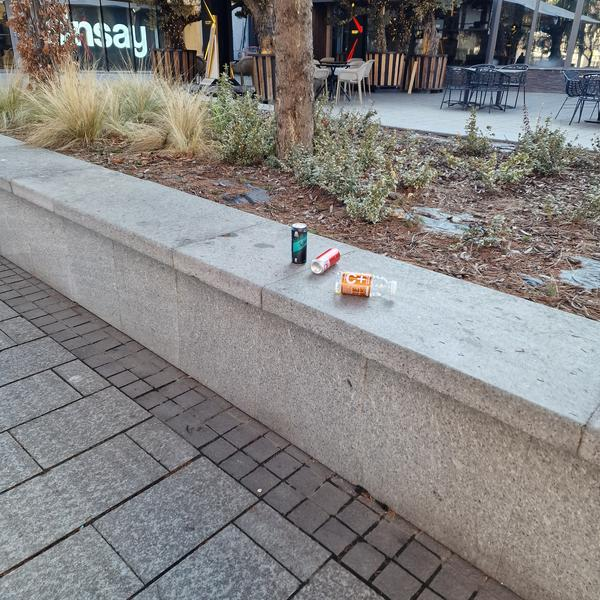can: (307, 244, 345, 278), (291, 222, 307, 266)
plastic_bottle: (335, 269, 398, 300)
